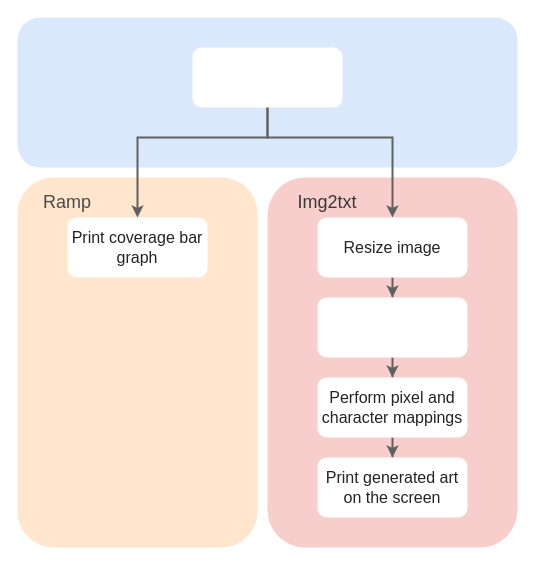
This 534x564 diagram has some shape labels left out. Each missing label, with the box of its shape:
Calculate Coverage: (192, 47, 342, 107)
Grayscalize image: (317, 297, 467, 357)
